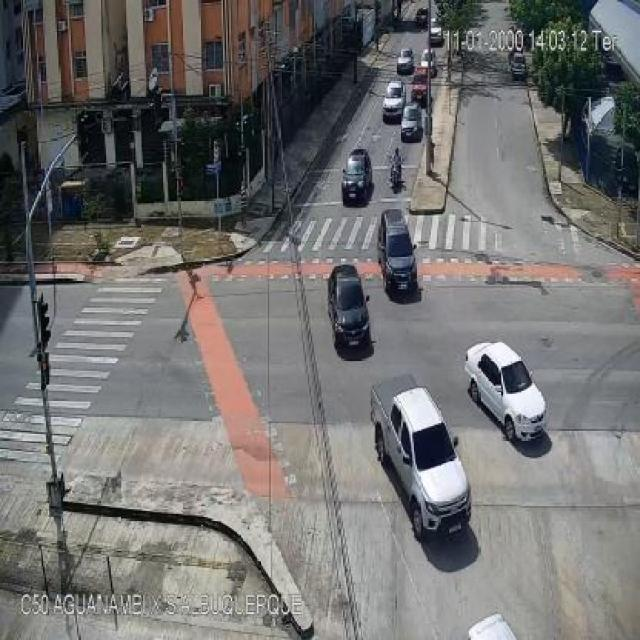Car: (369, 374, 476, 538), (467, 342, 549, 442), (326, 266, 370, 350), (378, 210, 418, 294), (341, 148, 373, 204), (382, 81, 406, 120), (410, 68, 433, 105), (400, 103, 422, 141), (417, 51, 437, 78), (509, 53, 527, 81), (396, 48, 414, 75), (429, 20, 444, 46), (415, 7, 429, 29)
Cycle: (389, 148, 405, 193)
